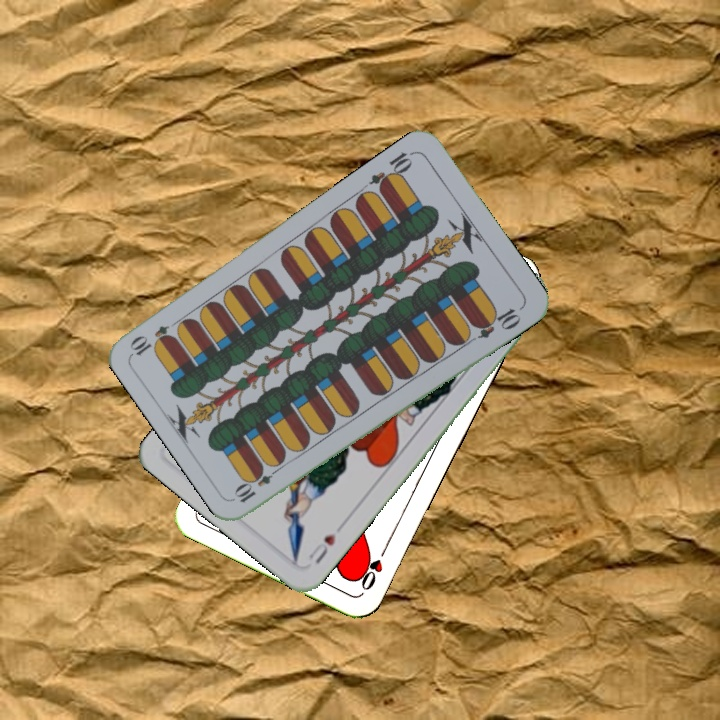E10: (366, 147, 417, 195), (231, 461, 284, 506)
HO: (356, 540, 392, 593)
HU: (304, 520, 346, 567)
